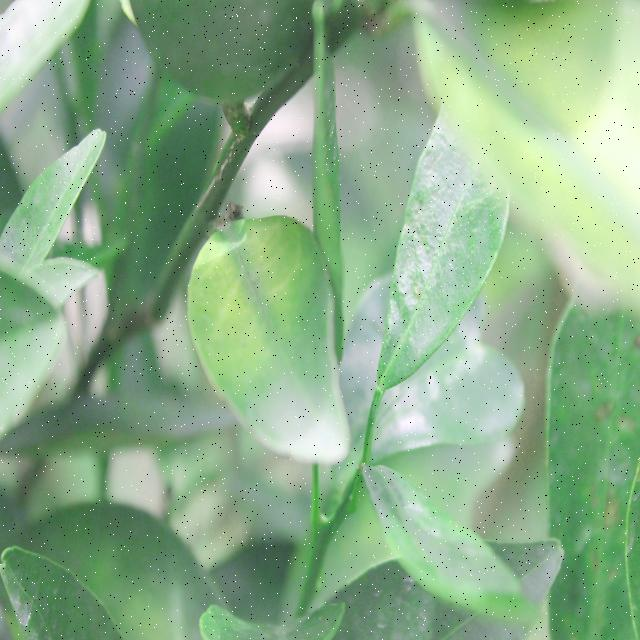greening: (192, 222, 348, 460)
